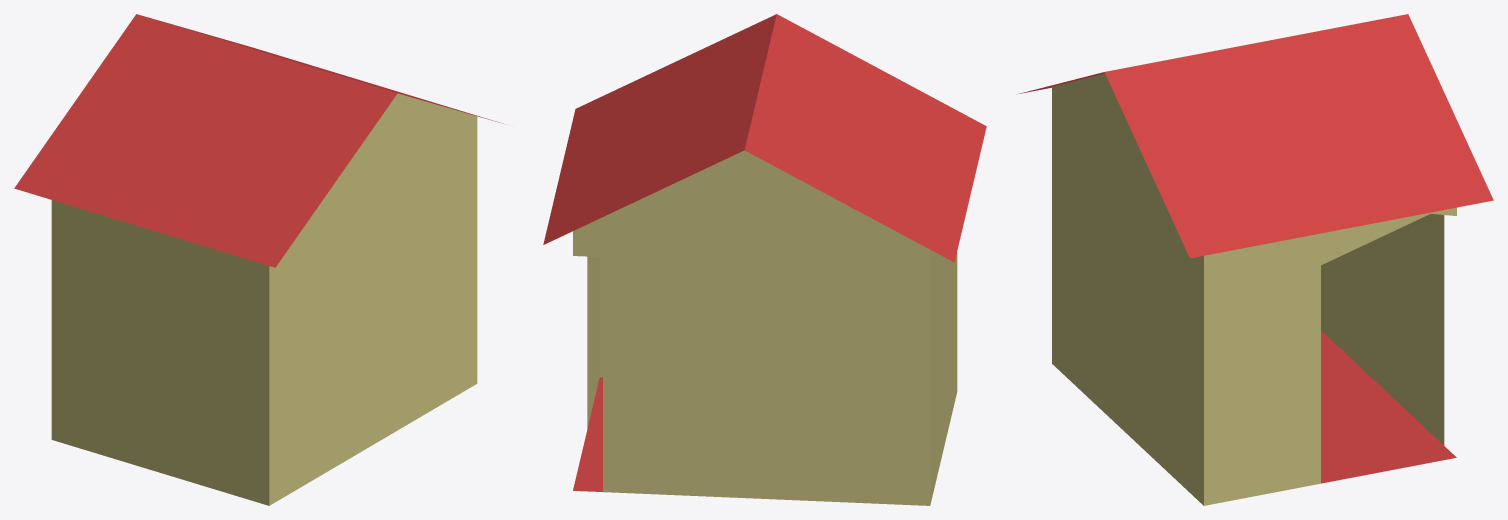
3 views of the same model, side by side, from view 1: azimuth 30°, elevation 25°; view 2: azimuth 150°, elevation 25°; view 3: azimuth 270°, elevation 25° (orthographic). The views are drawn at different scales.
Size of the model in its own units: 14.12 by 12.89 by 10.98.
